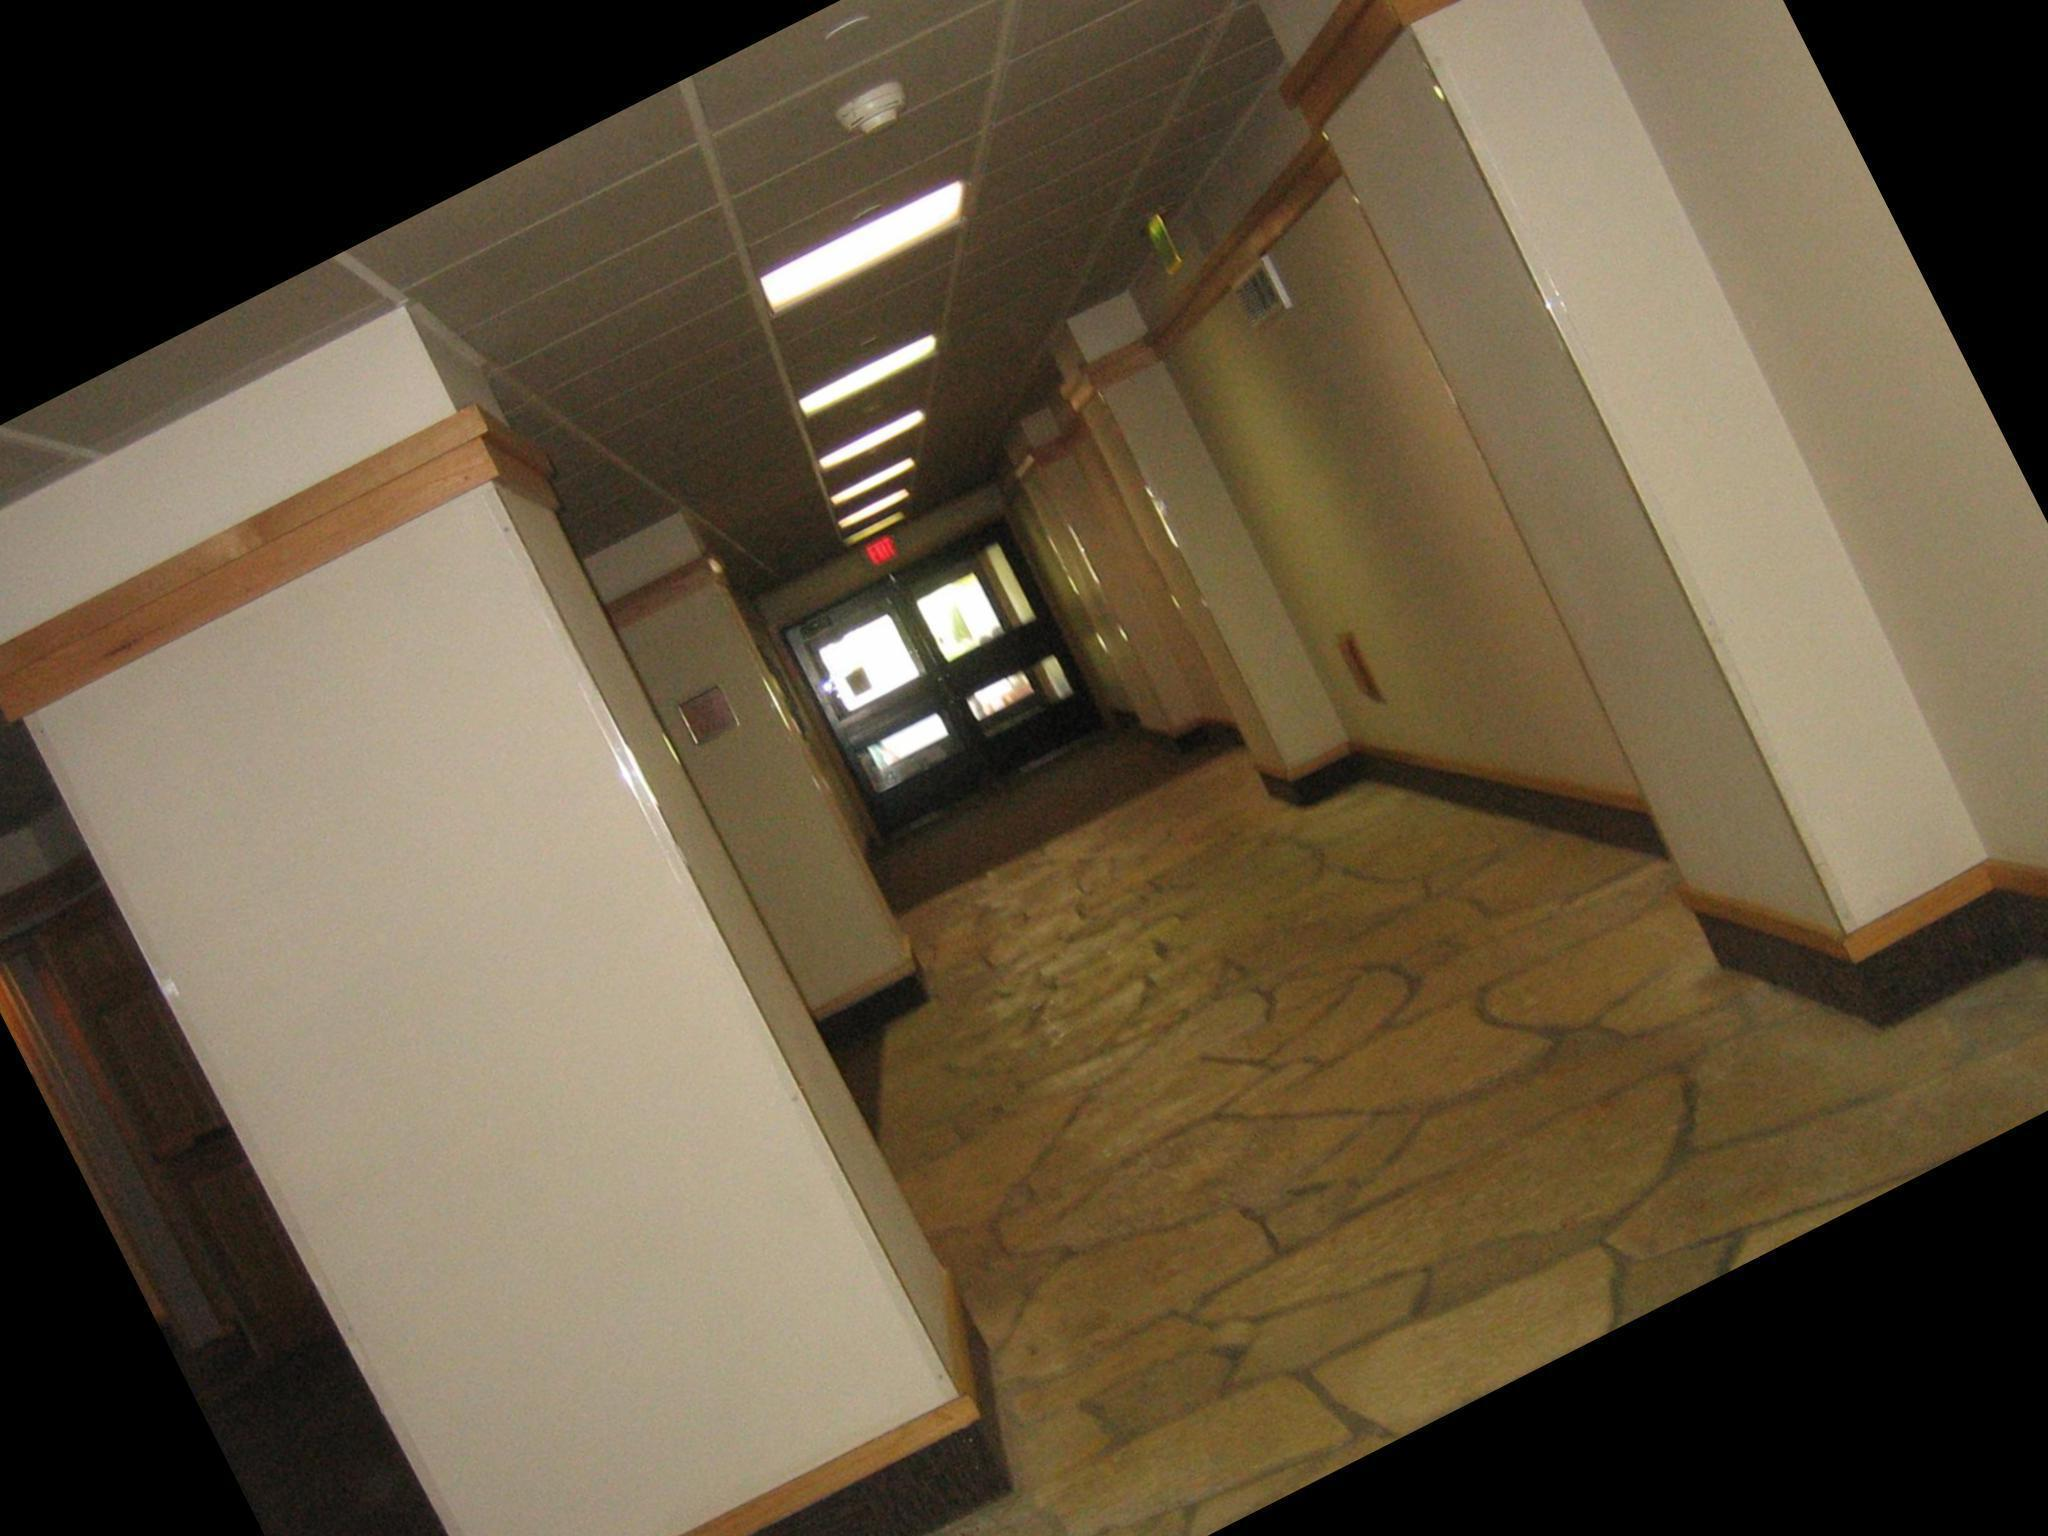Puerta: (789, 524, 1111, 837)
